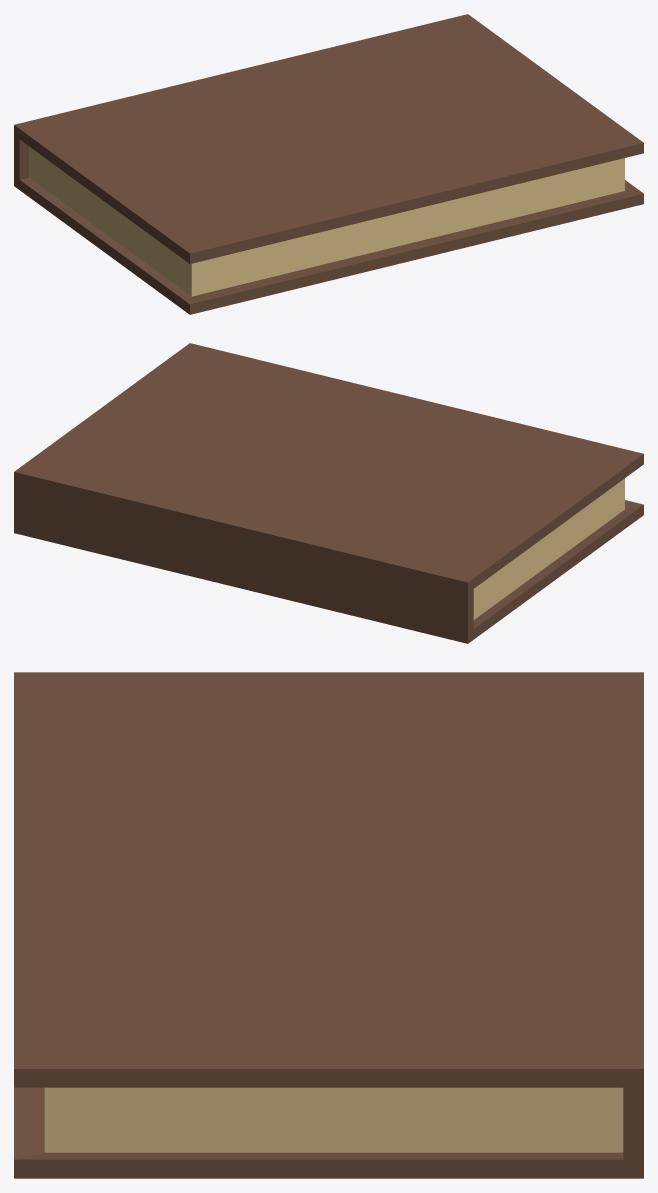
File: Book1_010.fbx
3 views of the same model, one above another, from view 1: azimuth 30°, elevation 25°; view 2: azimuth 150°, elevation 25°; view 3: azimuth 270°, elevation 25° (orthographic). The views are drawn at different scales.
Parts seen in each view (by area): view 1: Book1.010; view 2: Book1.010; view 3: Book1.010.
Boxes of the visible parts, <box> form: Book1.010: <box>14,14,643,314</box>; Book1.010: <box>14,343,643,643</box>; Book1.010: <box>14,672,643,1178</box>.
Bounding box in the file's own units: 51.19 × 6.6 × 34.37.
